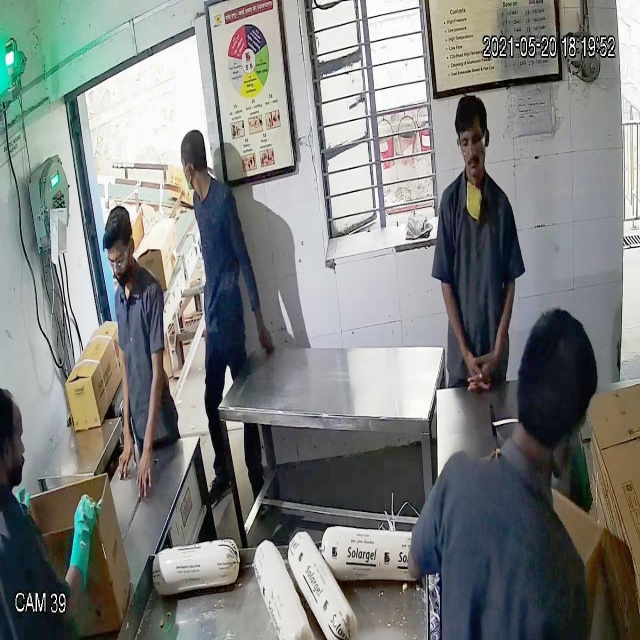Gafas: (453, 132, 490, 156), (104, 244, 130, 276)
